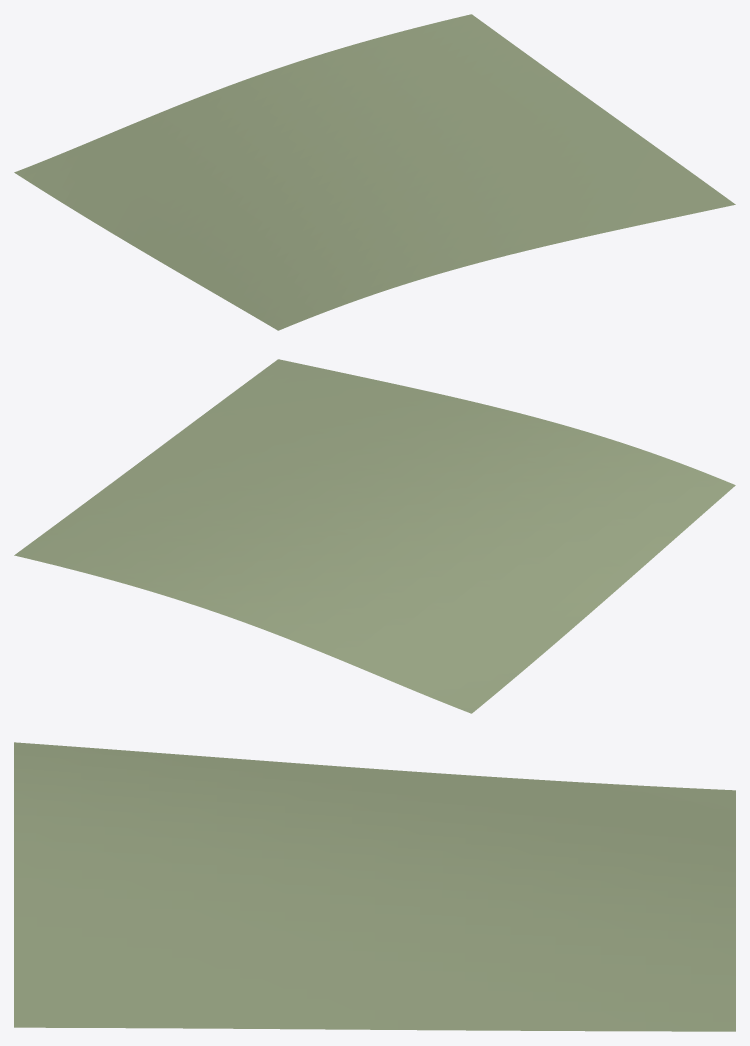
Rendered from expanse-6-28.glb.
The picture shows the model from 3 angles, top to bottom: view 1: azimuth 30°, elevation 25°; view 2: azimuth 150°, elevation 25°; view 3: azimuth 270°, elevation 25°; orthographic projection. The views are drawn at different scales.
Parts seen in each view (by area): view 1: expanse-6-28; view 2: expanse-6-28; view 3: expanse-6-28.
Part boxes in pixels (x1=…): expanse-6-28: x1=14, y1=14, x2=735, y2=330; expanse-6-28: x1=14, y1=359, x2=735, y2=713; expanse-6-28: x1=14, y1=742, x2=735, y2=1031.
Bounding box in the file's own units: 256 × 29.19 × 256.
